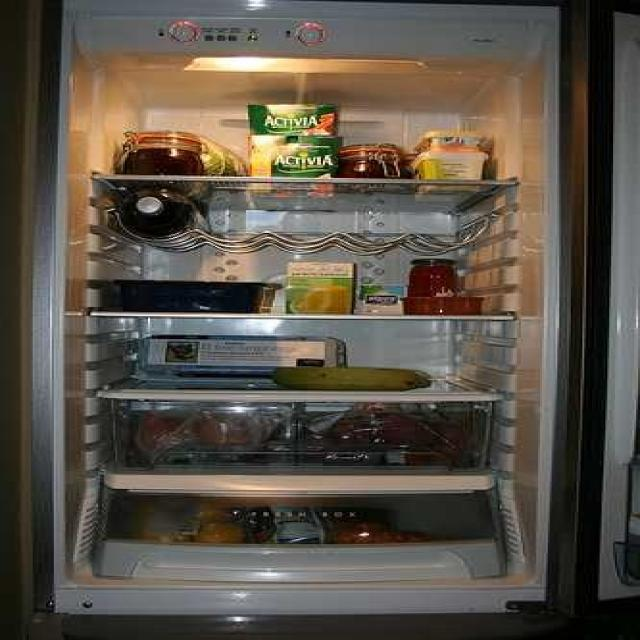refrigerator: (49, 0, 550, 611)
